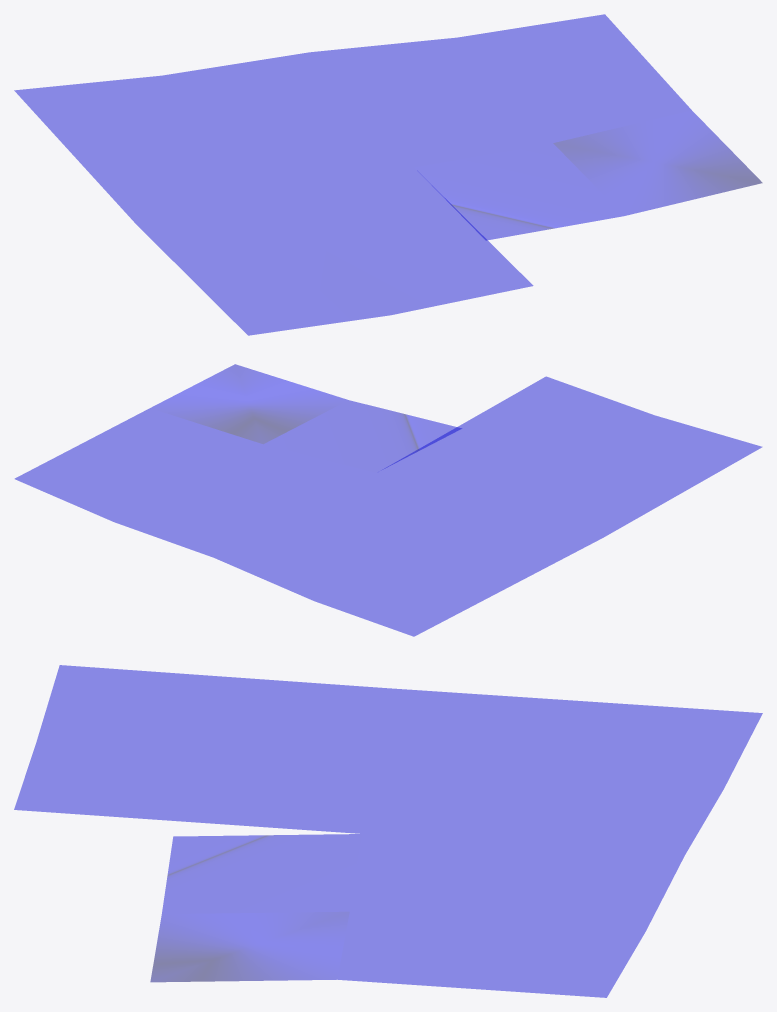
File: track_la_coll_road_31.fbx
3 renders of one model, top to bottom at view 1: azimuth 30°, elevation 25°; view 2: azimuth 150°, elevation 25°; view 3: azimuth 270°, elevation 25°, orthographic. The views are drawn at different scales.
Parts seen in each view (by area): view 1: track_la_coll_road_31; view 2: track_la_coll_road_31; view 3: track_la_coll_road_31.
Boxes of the visible parts, box(x1,y1,x2,y2) form: track_la_coll_road_31: box(14, 14, 762, 335); track_la_coll_road_31: box(15, 364, 761, 636); track_la_coll_road_31: box(14, 665, 762, 997).
Size of the model in its own units: 59.82 by 1.59 by 57.64.
